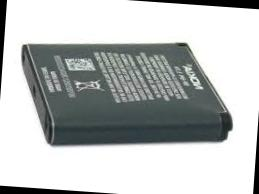battery: (2, 19, 248, 181)
